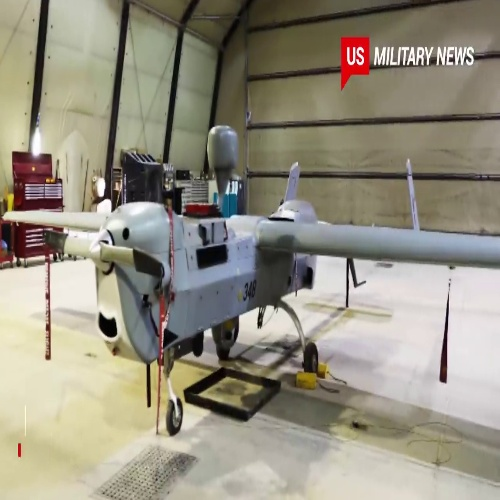uav: (7, 126, 500, 437)
